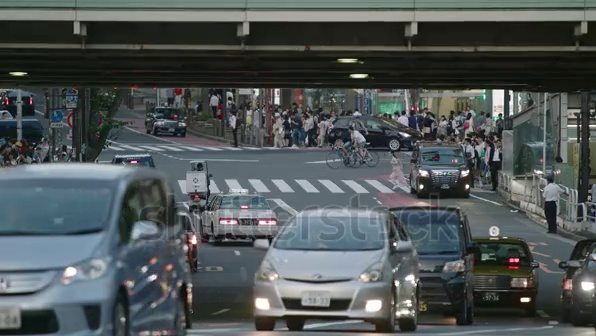licenseplate: (304, 294, 332, 309)
